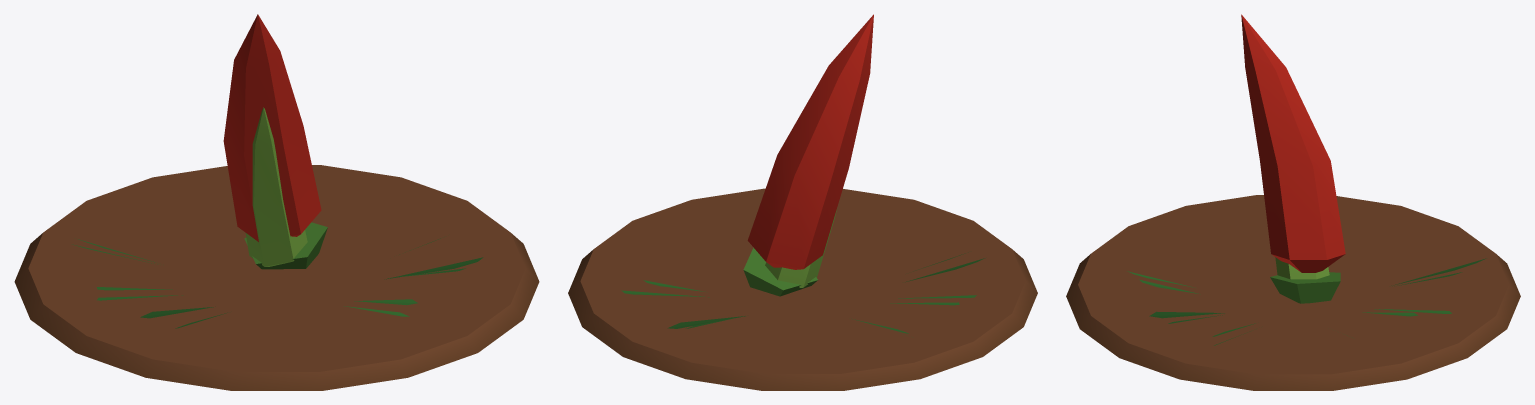
File: chili-w5.glb
The picture shows the model from 3 angles, left to right: view 1: azimuth 30°, elevation 25°; view 2: azimuth 150°, elevation 25°; view 3: azimuth 270°, elevation 25°; orthographic projection. The views are drawn at different scales.
Parts seen in each view (by area): view 1: crop-chili-giant-2, crop-chili-giant; view 2: crop-chili-giant-2, crop-chili-giant; view 3: crop-chili-giant-2, crop-chili-giant.
Part boxes in pixels (box(x1,y1,x2,y2)): crop-chili-giant-2: box(14, 107, 539, 390); crop-chili-giant: box(72, 14, 465, 318); crop-chili-giant-2: box(568, 188, 1037, 390); crop-chili-giant: box(621, 14, 985, 328); crop-chili-giant-2: box(1066, 195, 1520, 390); crop-chili-giant: box(1127, 14, 1486, 345).
Size of the model in its own units: 5.61 by 3.76 by 5.7.
